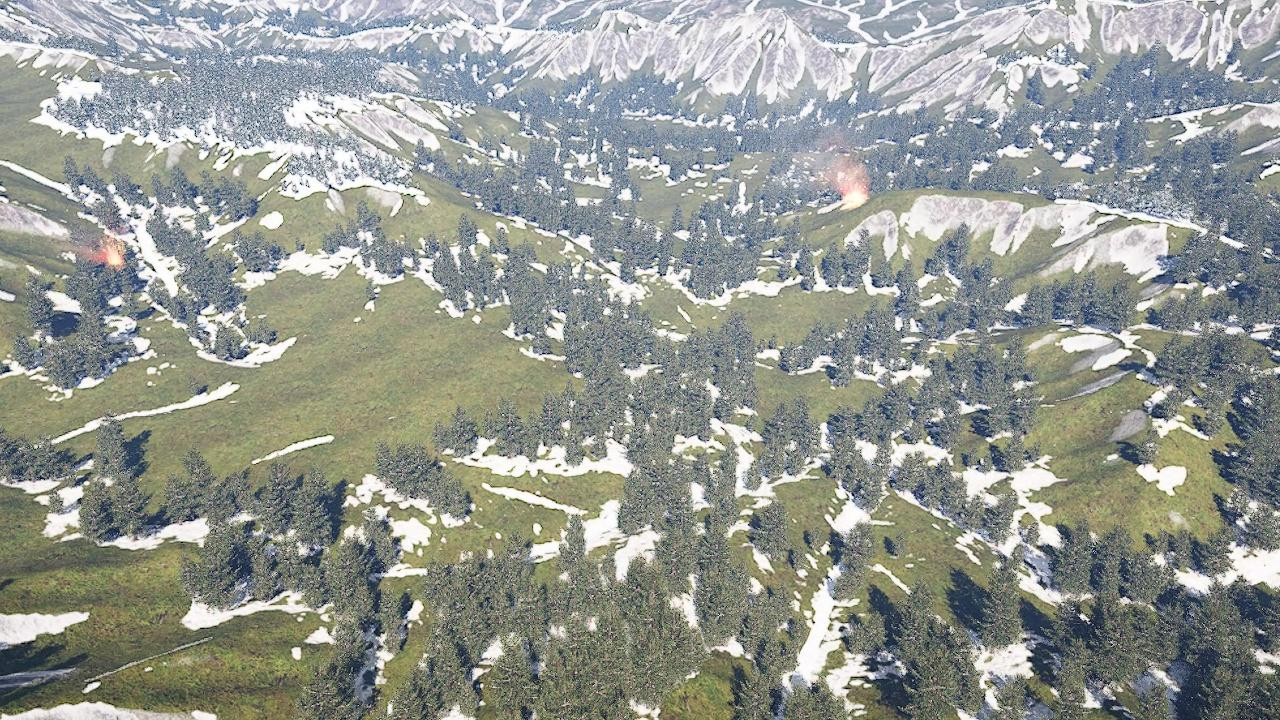fire: (841, 188, 868, 208), (106, 249, 127, 267)
smoke: (807, 124, 869, 190), (78, 235, 114, 263)
